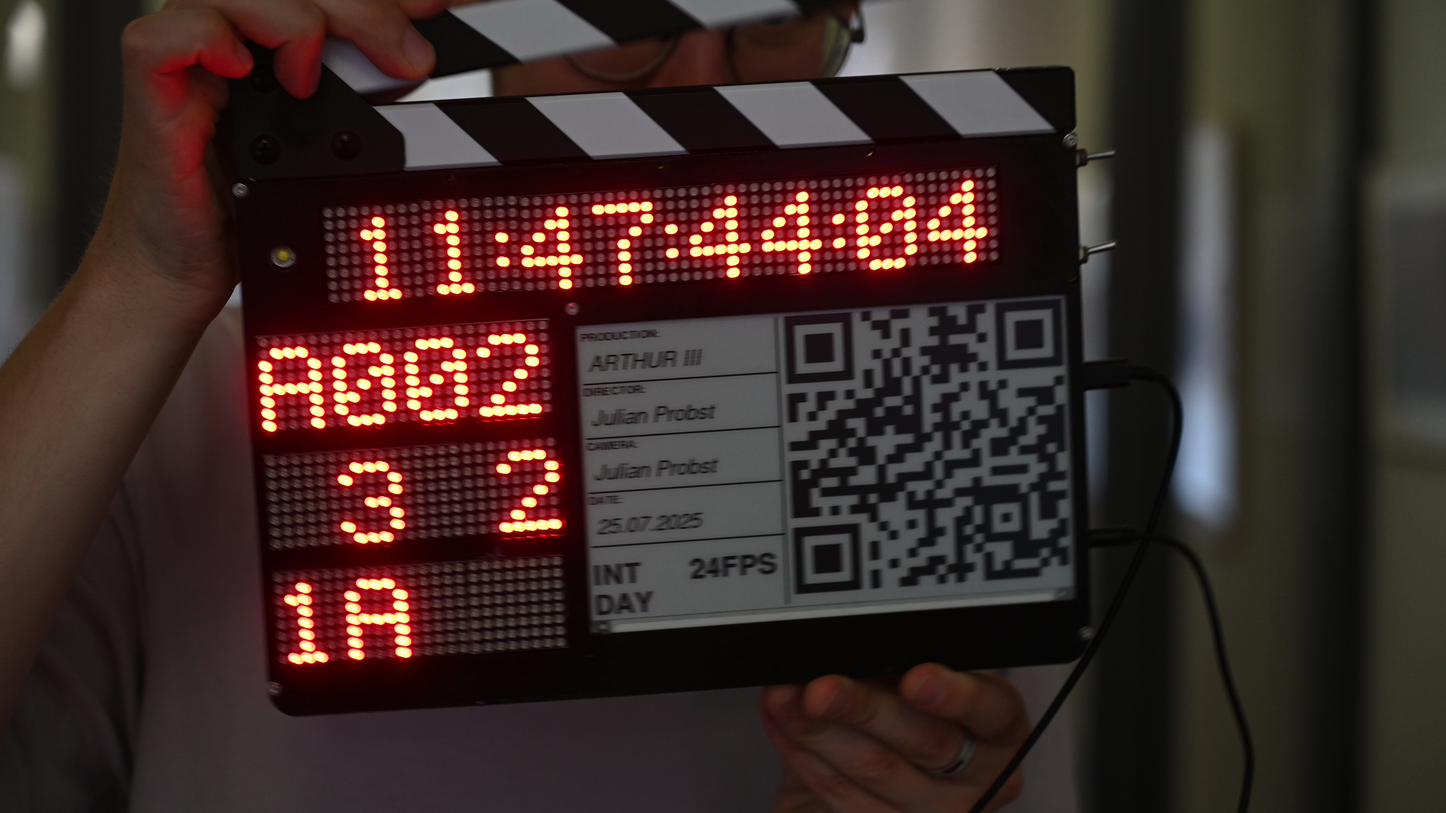ARC-SLATE: (223, 62, 1099, 721)
